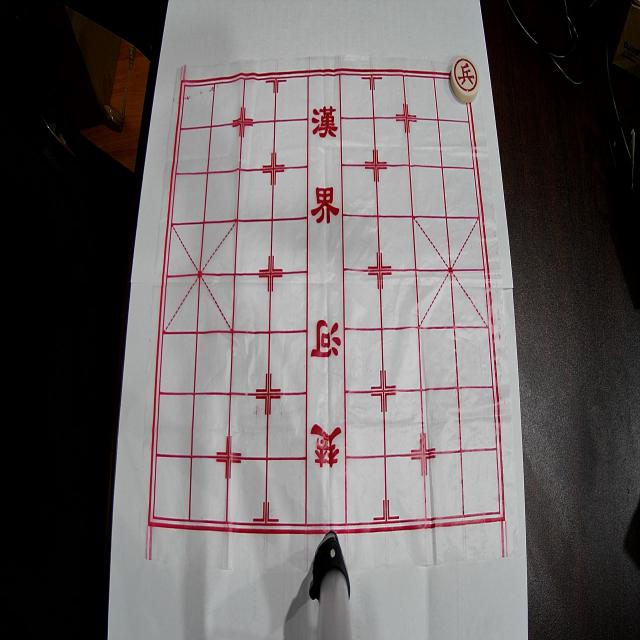red-soldier: (450, 56, 480, 103)
